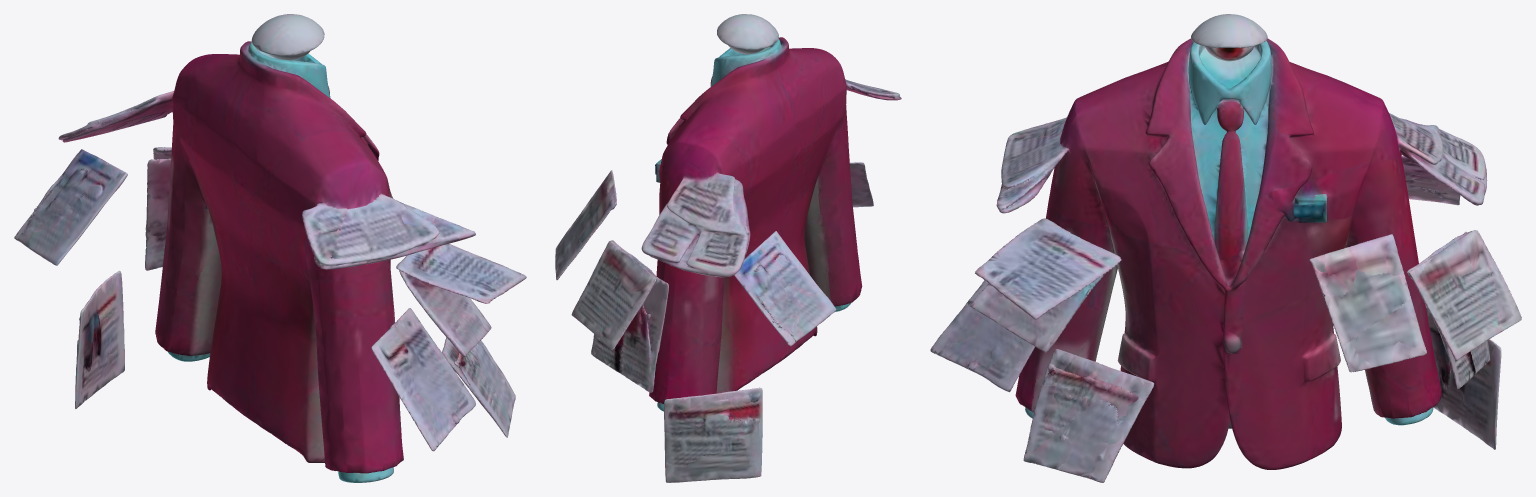
The model's file is boss_interviewer.glb.
3 views of the same model, side by side, from view 1: azimuth 30°, elevation 25°; view 2: azimuth 150°, elevation 25°; view 3: azimuth 270°, elevation 25° (orthographic). The views are drawn at different scales.
Visible parts, largest first — view 1: tripo_node_6289ec5b-cd3a-407f-84f7-511e8d035e2f; view 2: tripo_node_6289ec5b-cd3a-407f-84f7-511e8d035e2f; view 3: tripo_node_6289ec5b-cd3a-407f-84f7-511e8d035e2f.
Part boxes in pixels (left/top/right/bottom): tripo_node_6289ec5b-cd3a-407f-84f7-511e8d035e2f: left=14, top=14, right=526, bottom=482; tripo_node_6289ec5b-cd3a-407f-84f7-511e8d035e2f: left=555, top=14, right=901, bottom=482; tripo_node_6289ec5b-cd3a-407f-84f7-511e8d035e2f: left=930, top=14, right=1521, bottom=482.
Size of the model in its own units: 0.6677 by 0.8403 by 0.9999.
Materials: 1 (1 with a texture image).
